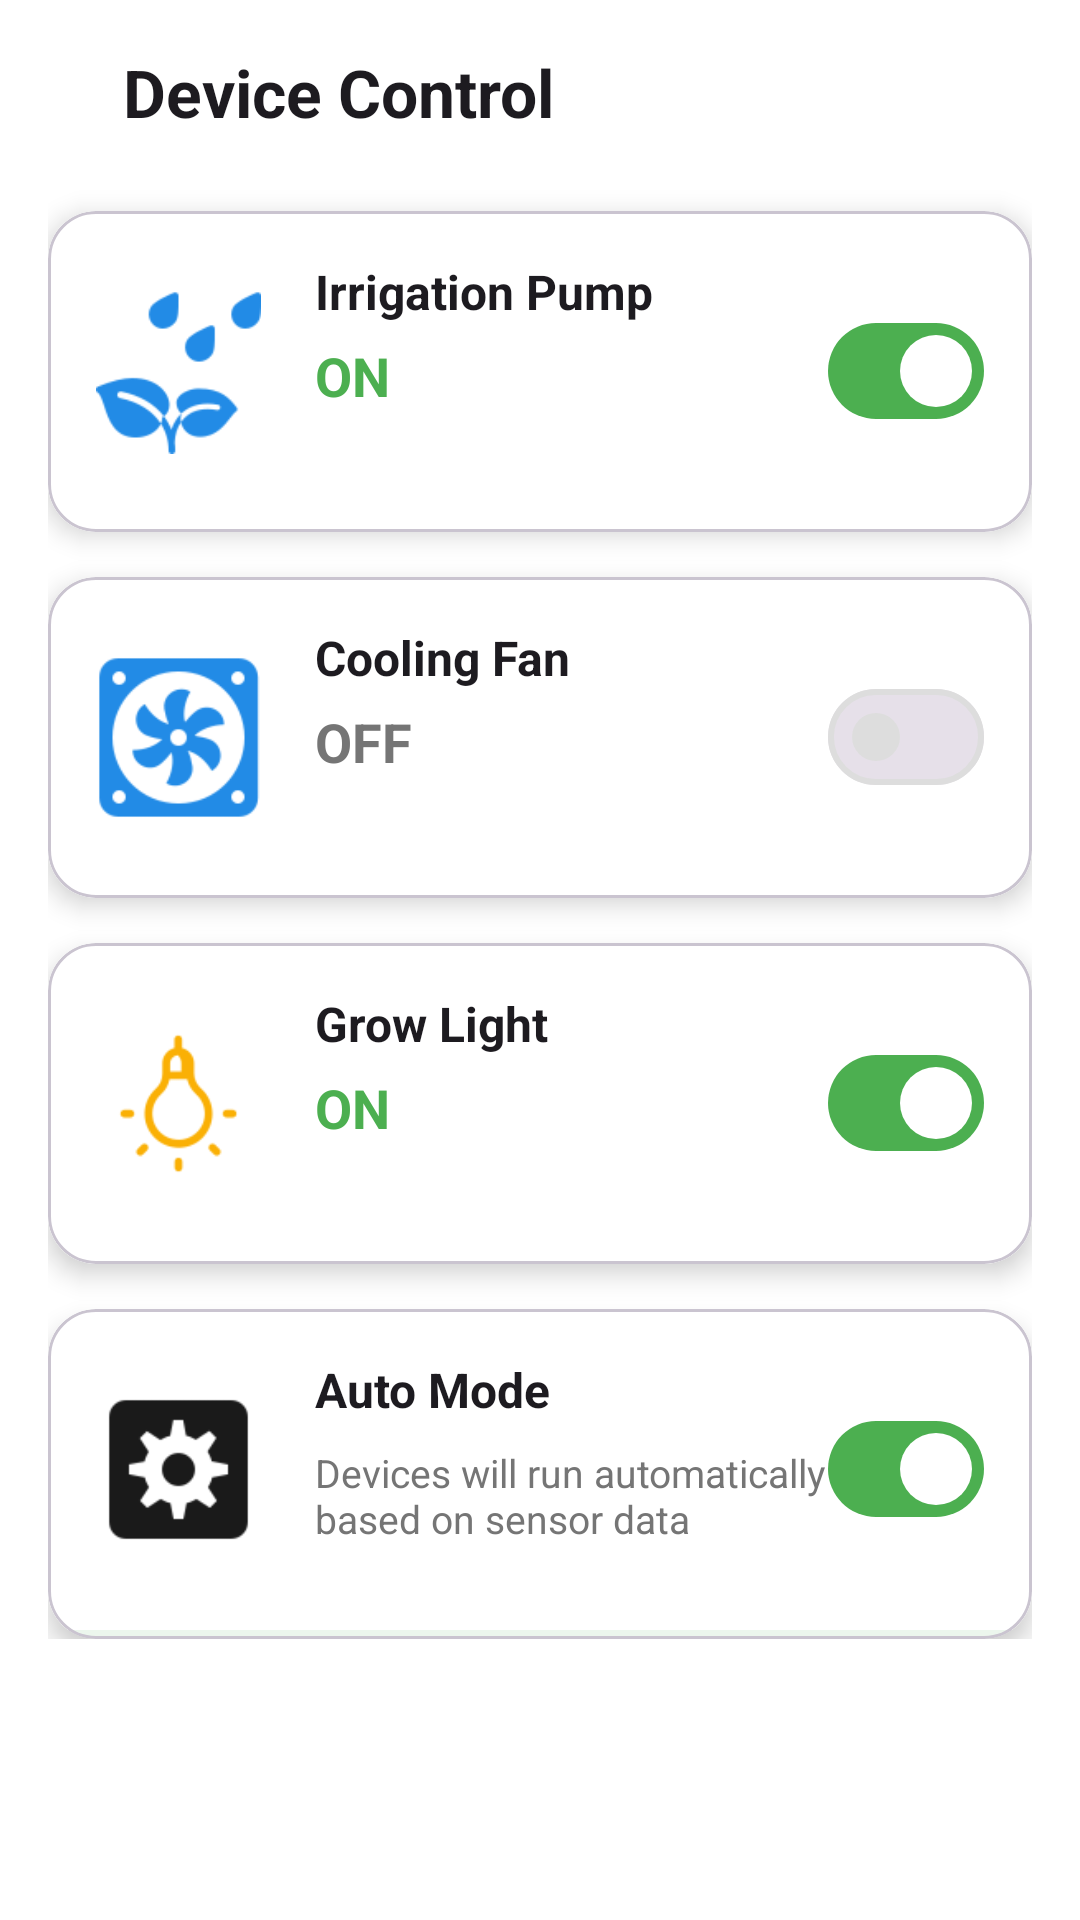

Locate icon controls on the screen. Image size 1080×1920, boxes as (x1, y1, x2, y2).
cool fan: (99, 658, 259, 817)
